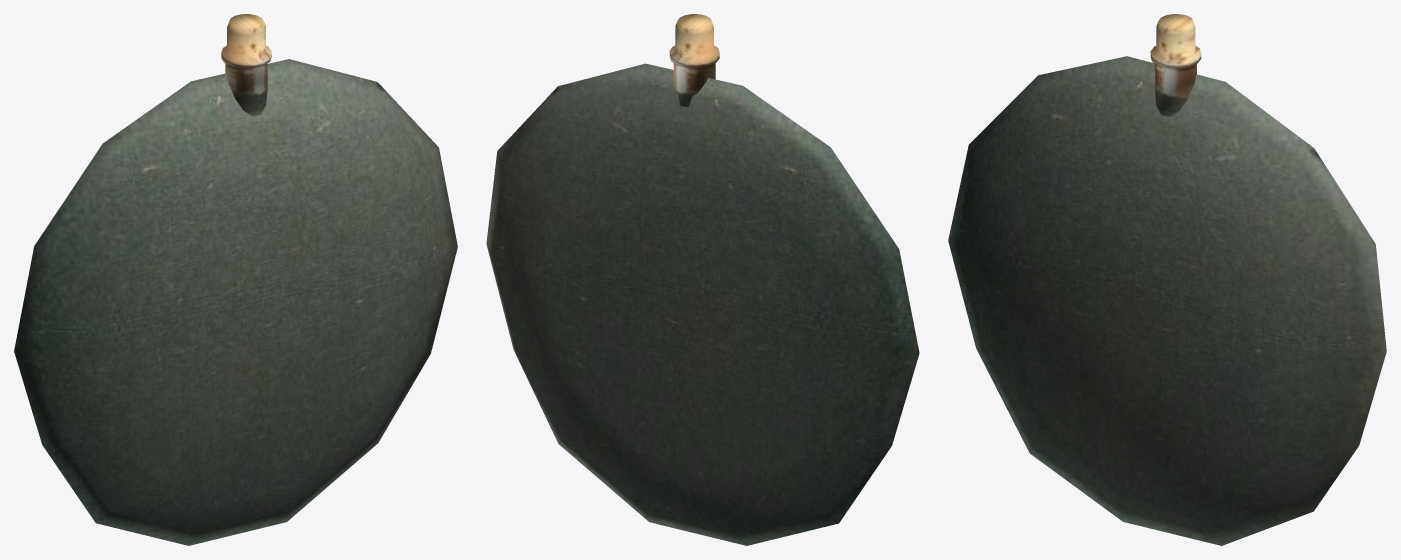
Rendered from water_pouch.fbx.
The picture shows the model from 3 angles, left to right: view 1: azimuth 30°, elevation 25°; view 2: azimuth 150°, elevation 25°; view 3: azimuth 330°, elevation 25°; orthographic projection.
Visible parts, largest first — view 1: U3DMesh; view 2: U3DMesh; view 3: U3DMesh.
Boxes of the visible parts, bbox=[...] form: U3DMesh: bbox=[14, 14, 457, 545]; U3DMesh: bbox=[486, 14, 919, 545]; U3DMesh: bbox=[948, 14, 1386, 545].
Bounding box in the file's own units: 0.4358 × 0.4856 × 0.0515.
1 material, 1 textured.
